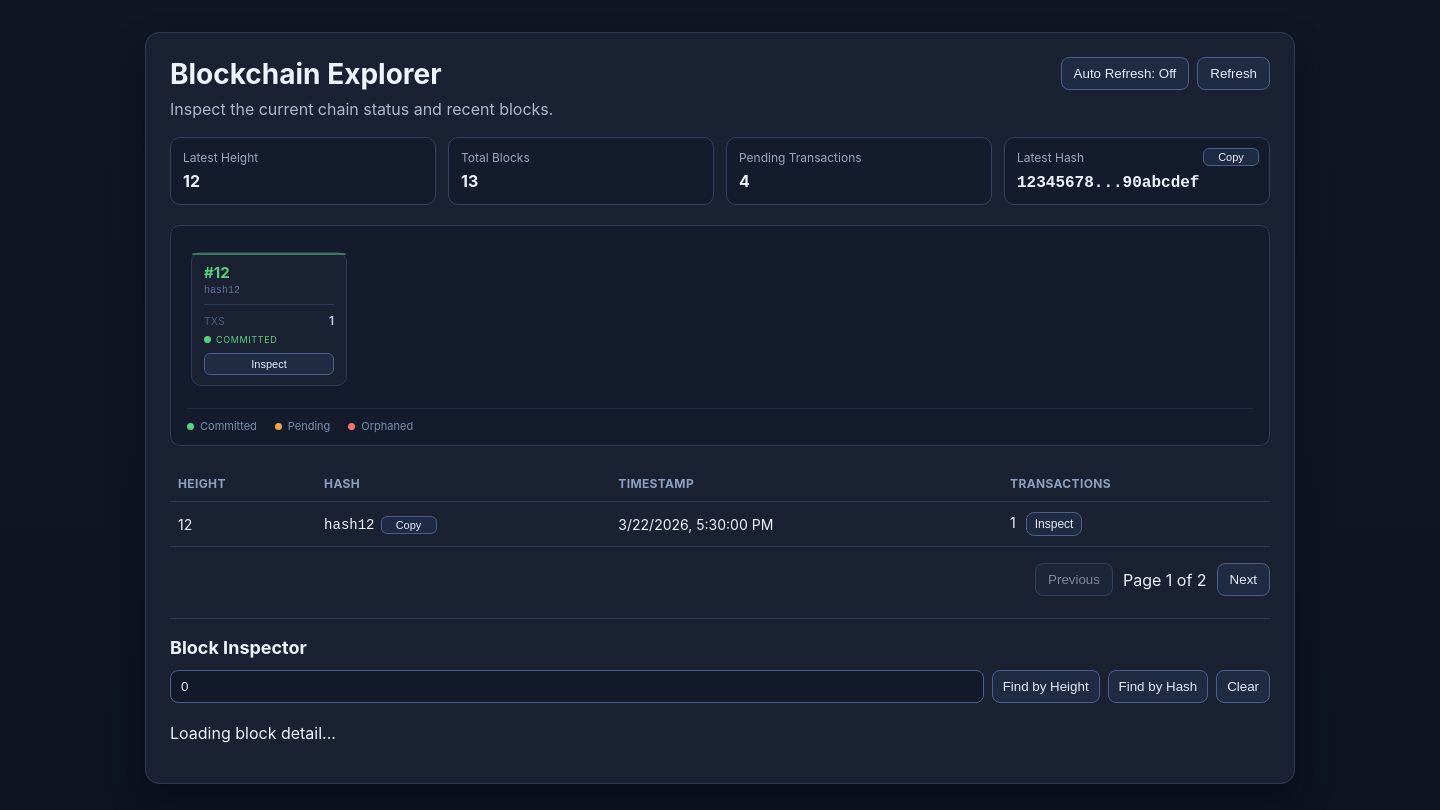
Scenario: shows inspect button loading interaction while detail is fetching
The image size is (1440, 810).
Check: the text "Page 1 of 2" is shown, box [1123,570,1207,590]
# Click the Inspect button scoped to the blocks table to avoid diagram node buttons
Click the button "Inspect" in the row of "3/22/2026, 5:30:00 PM" at (1054, 524), box [1026,512,1082,536]
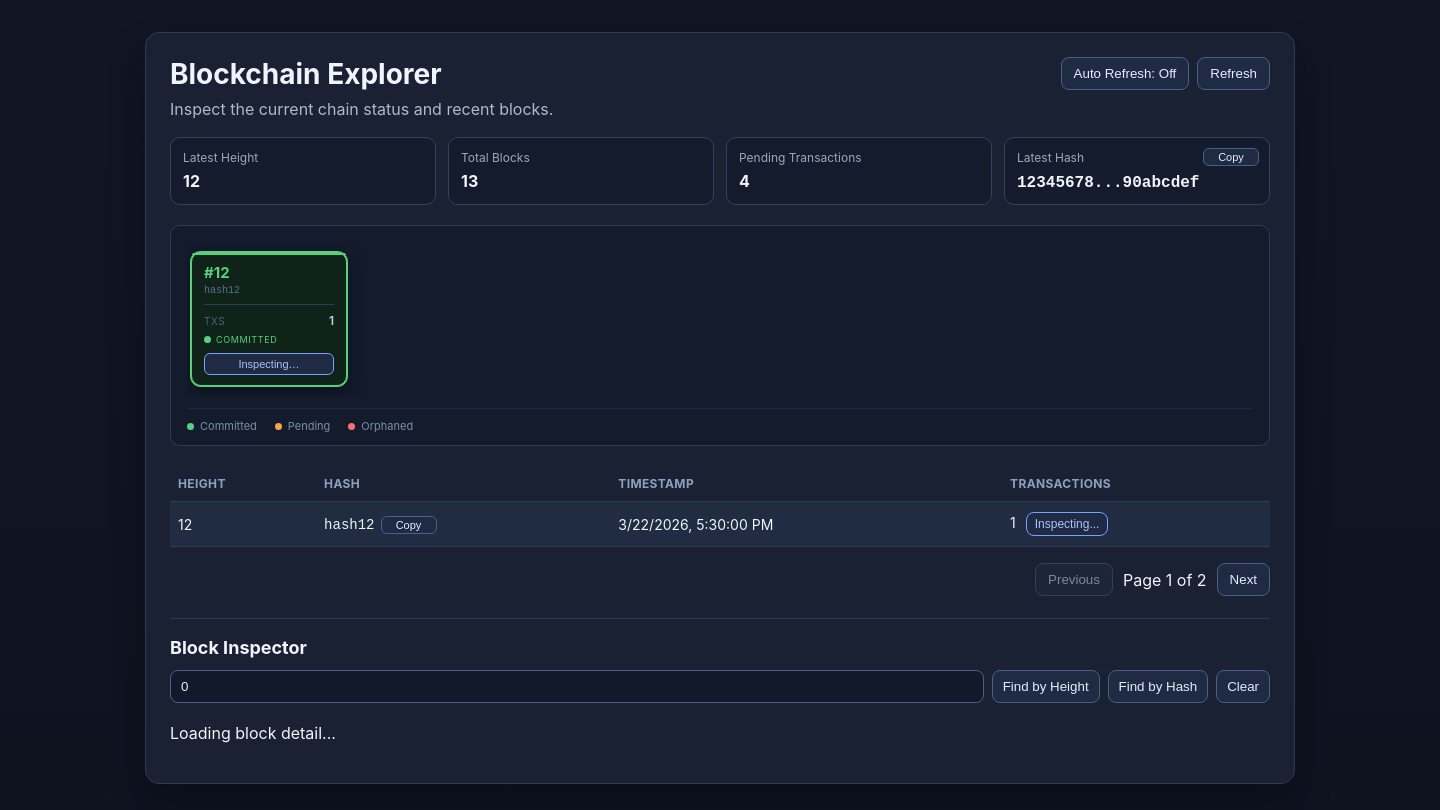
Check: the button "Inspecting..." is disabled, box [1026,512,1108,536]
